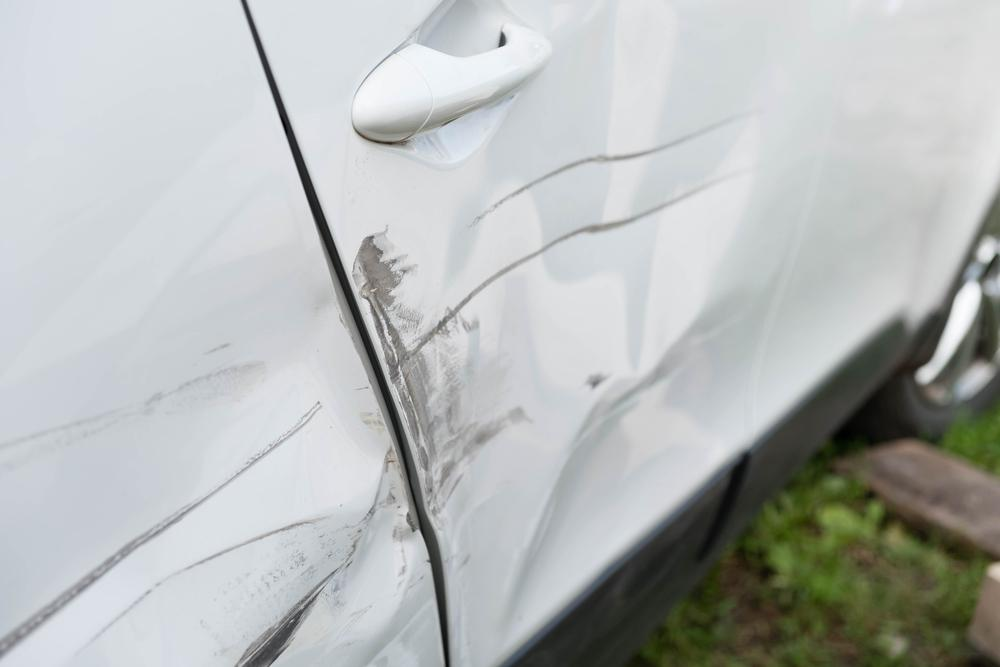dent: (440, 0, 764, 642), (292, 459, 416, 640)
scratch: (0, 327, 344, 667), (353, 222, 525, 530)
